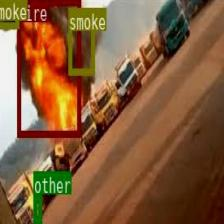fire: (16, 0, 81, 136)
smoke: (68, 7, 94, 73), (0, 0, 18, 28)
